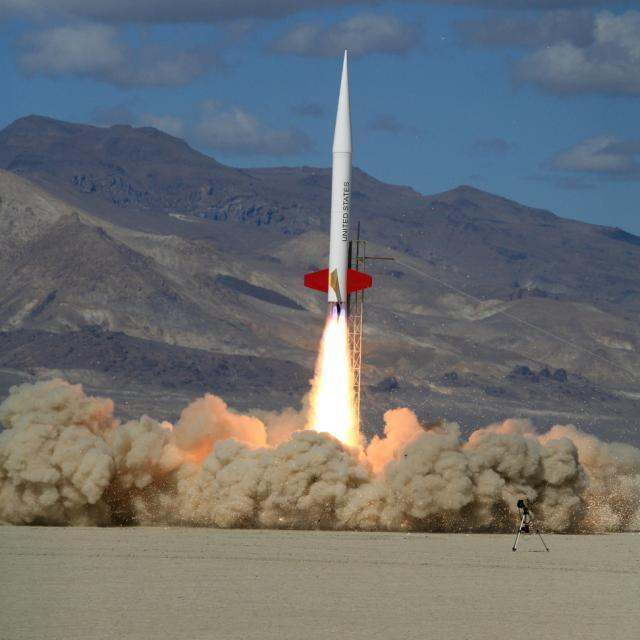missile: (306, 48, 368, 336)
